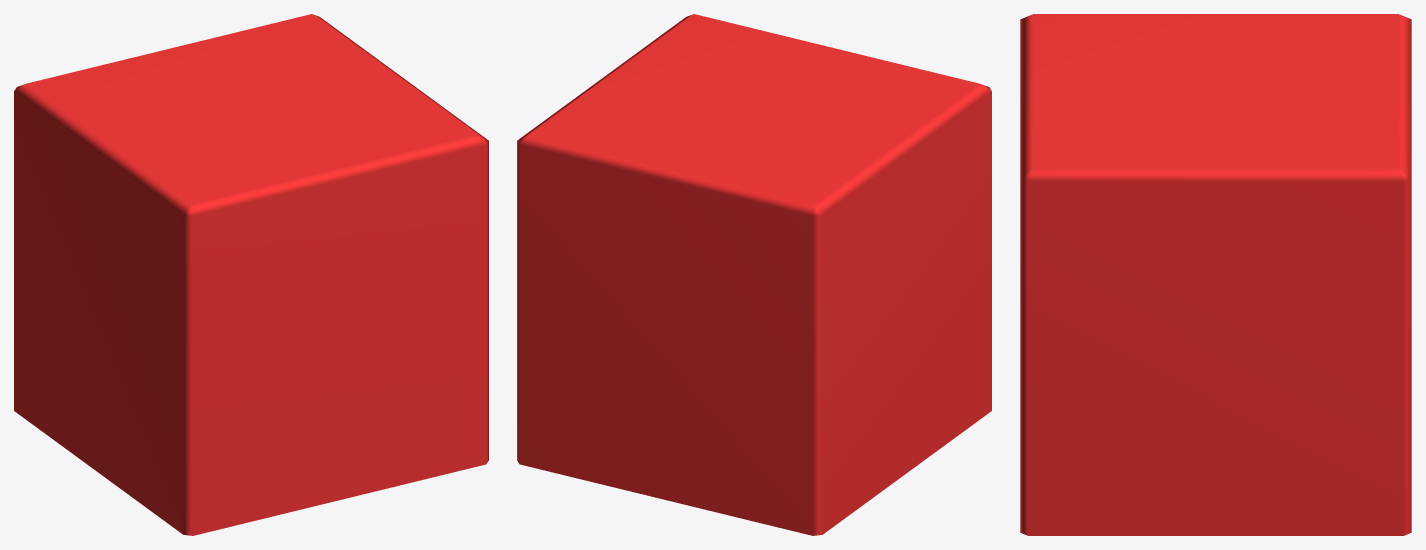
File: DBK_Brick_Pillar_Cap.fbx
3 renders of one model, left to right at view 1: azimuth 30°, elevation 25°; view 2: azimuth 150°, elevation 25°; view 3: azimuth 270°, elevation 25°, orthographic. The views are drawn at different scales.
Visible parts, largest first — view 1: DBK_Brick_Pillar_Cap; view 2: DBK_Brick_Pillar_Cap; view 3: DBK_Brick_Pillar_Cap.
Boxes of the visible parts, bbox=[...] form: DBK_Brick_Pillar_Cap: bbox=[14, 14, 488, 535]; DBK_Brick_Pillar_Cap: bbox=[517, 14, 991, 535]; DBK_Brick_Pillar_Cap: bbox=[1020, 14, 1411, 535].
Bounding box in the file's own units: 50 × 51.08 × 50.
